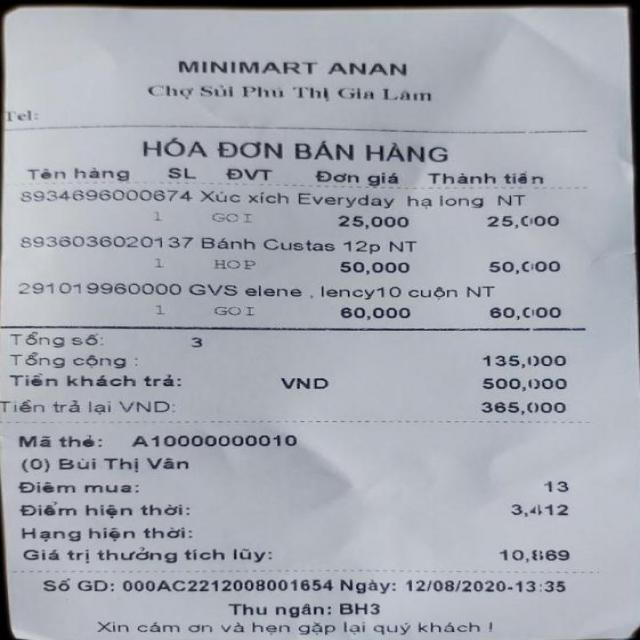Date: (394, 570, 510, 596)
Store_Name: (147, 44, 418, 86)
amount_number: (480, 350, 570, 370)
label_total: (10, 349, 142, 370)
